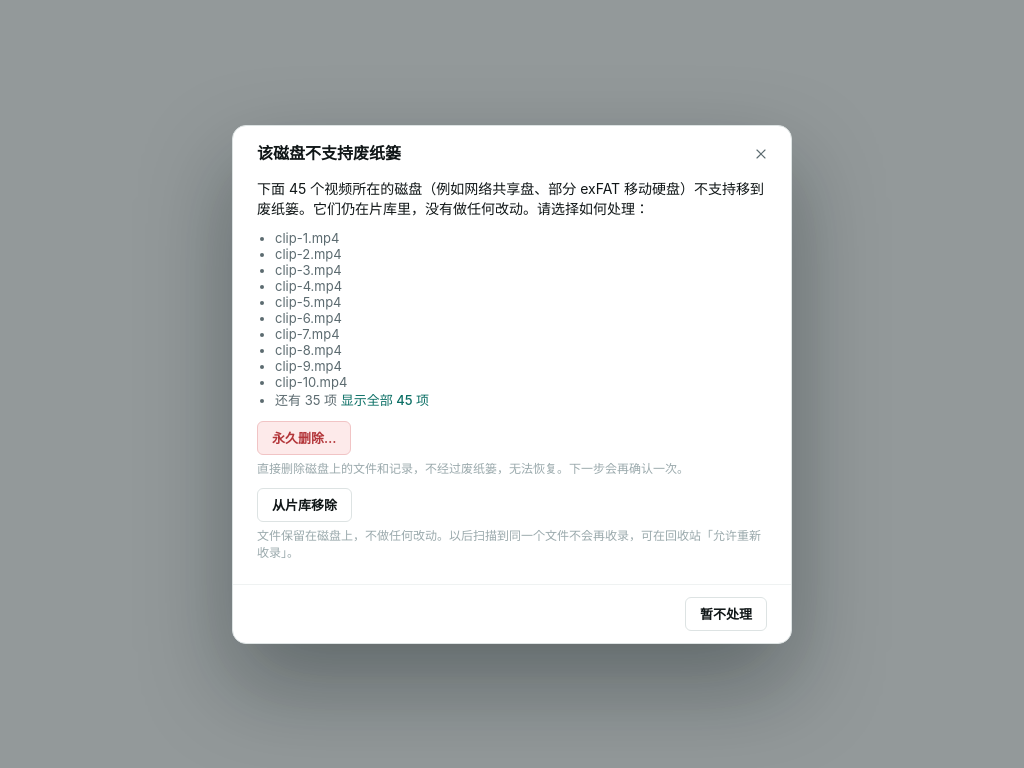
Test: TrashUnsupportedDialog 名单 › 选择页列前 10 项，「显示全部」展开看到每一项
The width and height of the screenshot is (1024, 768).
Check: the list with test id "trash-unsupported-names" shows "还有 35 项", box x1=275 y1=392 x2=341 y2=408
Click the button with test id "trash-unsupported-show-all": (385, 399) x1=341 y1=390 x2=429 y2=408
(page scrolled)
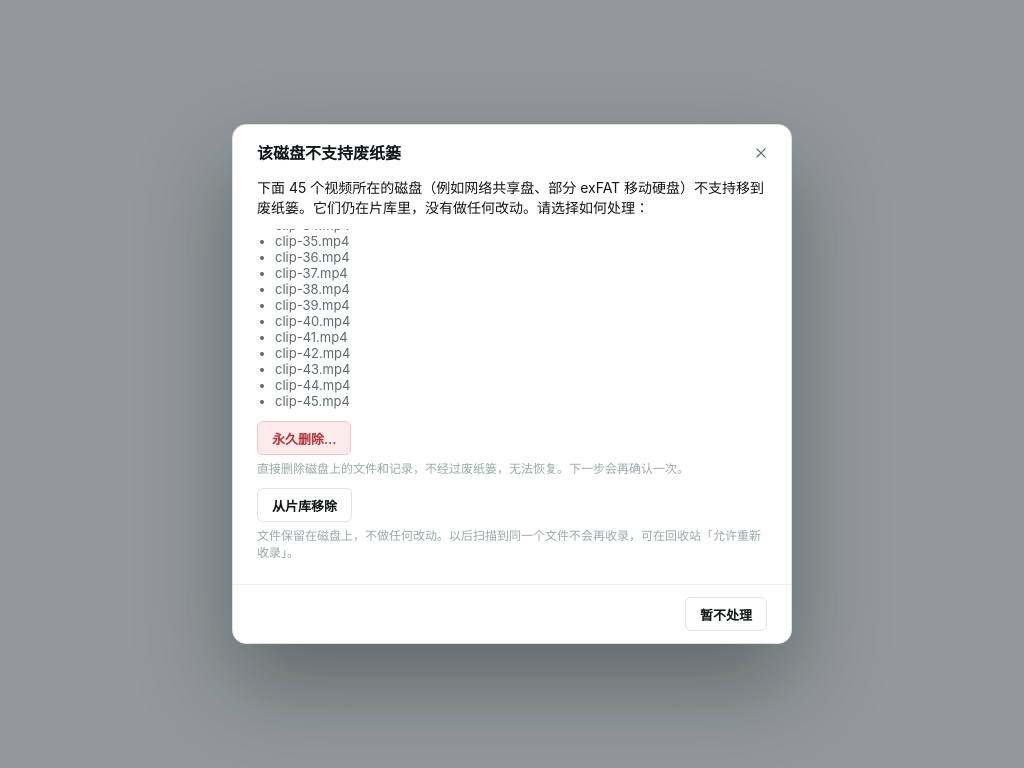
Check: the list item "clip-45.mp4" is shown, box x1=275 y1=393 x2=350 y2=409
Check: the button with test id "trash-unsupported-show-all" is gone
